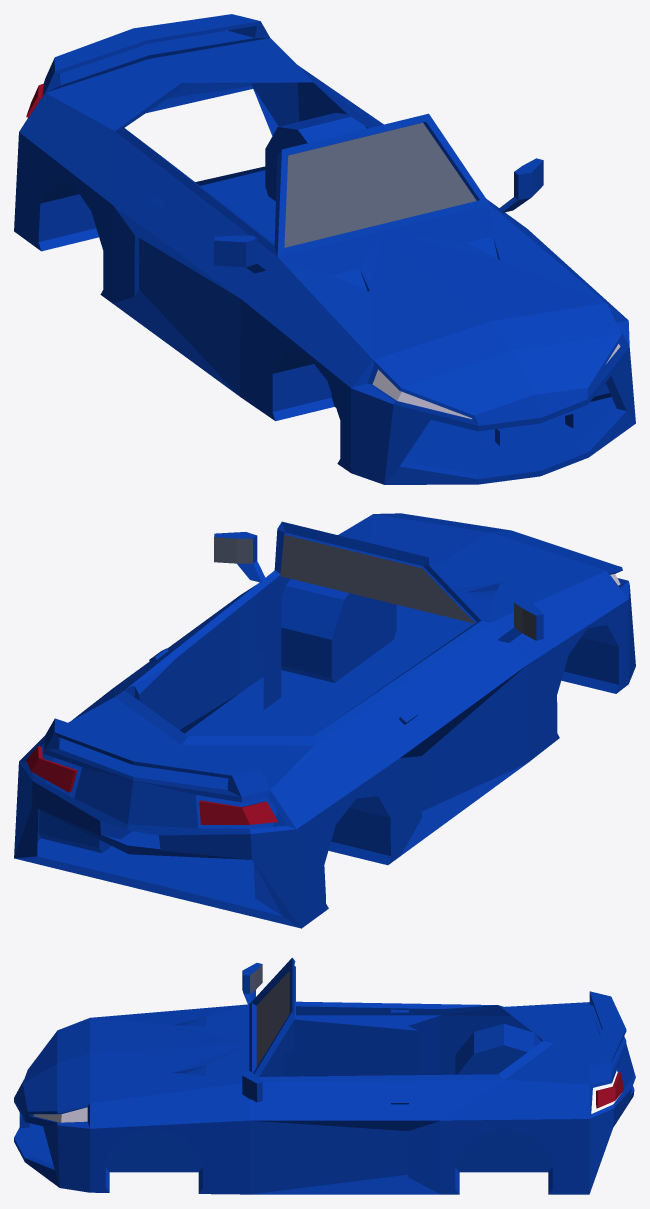
Rendered from Roadster.glb.
The picture shows the model from 3 angles, top to bottom: view 1: azimuth 30°, elevation 25°; view 2: azimuth 150°, elevation 25°; view 3: azimuth 270°, elevation 25°; orthographic projection. The views are drawn at different scales.
Visible parts, largest first — view 1: Roadster; view 2: Roadster; view 3: Roadster.
Part boxes in pixels (<box>): Roadster: <box>14,14,635,484</box>; Roadster: <box>14,513,635,928</box>; Roadster: <box>14,957,635,1194</box>.
Bounding box in the file's own units: 263 × 160 × 573.
